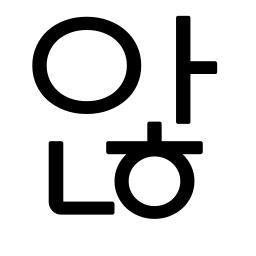Gaji: (163, 49, 206, 92)
